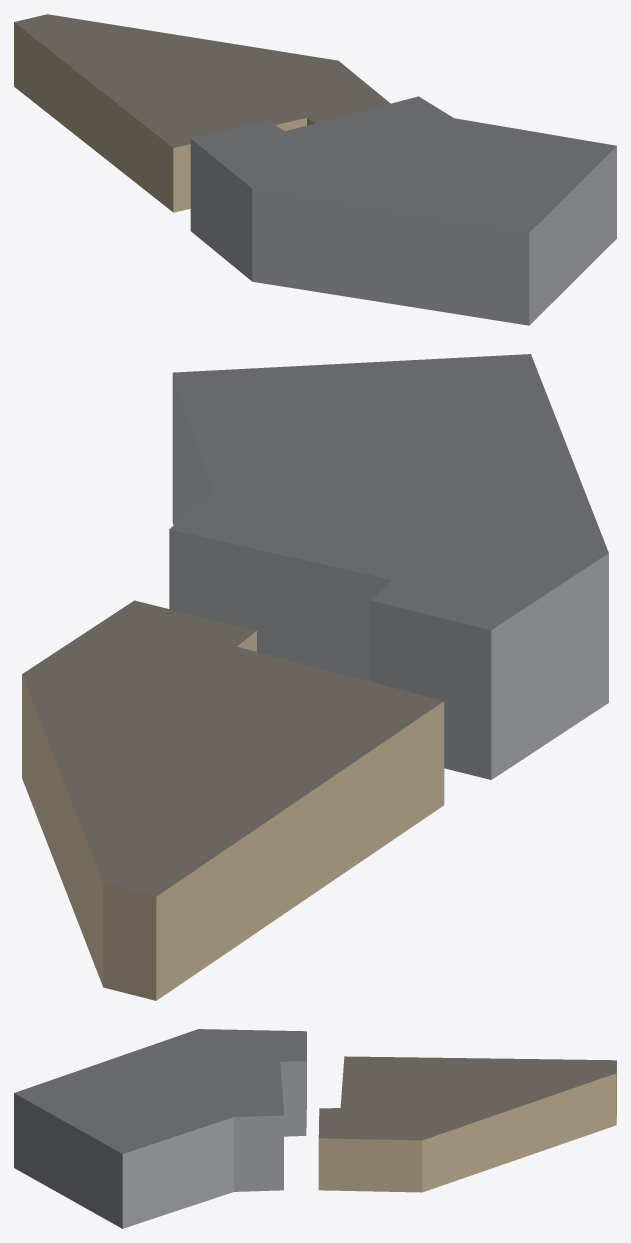
The model's file is tile_9_3.glb.
3 renders of one model, top to bottom at view 1: azimuth 30°, elevation 25°; view 2: azimuth 150°, elevation 25°; view 3: azimuth 270°, elevation 25°, orthographic. The views are drawn at different scales.
Visible parts, largest first — view 1: HP-w700246824, HP-w700256601; view 2: HP-w700246824, HP-w700256601; view 3: HP-w700246824, HP-w700256601.
Part boxes in pixels (left/top/right/bottom): HP-w700246824: left=190, top=96, right=616, bottom=325; HP-w700256601: left=14, top=14, right=390, bottom=212; HP-w700246824: left=169, top=354, right=608, bottom=779; HP-w700256601: left=22, top=600, right=444, bottom=1000; HP-w700246824: left=14, top=1029, right=306, bottom=1228; HP-w700256601: left=318, top=1056, right=616, bottom=1192.
Bounding box in the file's own units: 67.97 × 19 × 139.
